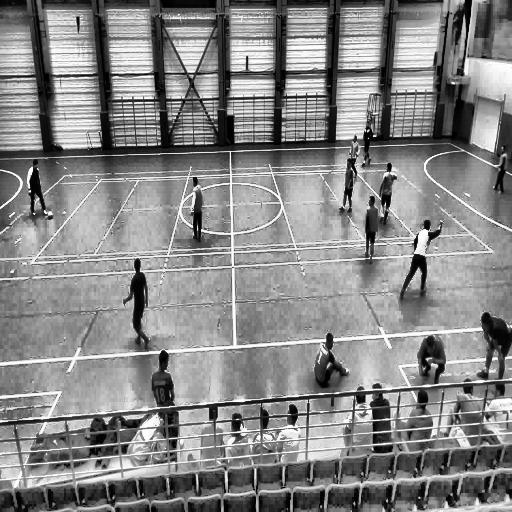ball: (46, 209, 54, 221)
player: (400, 218, 442, 300), (477, 310, 511, 382), (123, 257, 150, 347), (314, 331, 349, 396), (28, 157, 50, 218), (378, 161, 397, 226), (364, 194, 381, 264), (339, 156, 356, 214), (190, 176, 203, 245), (492, 142, 508, 197), (361, 117, 375, 167), (349, 133, 360, 180)
